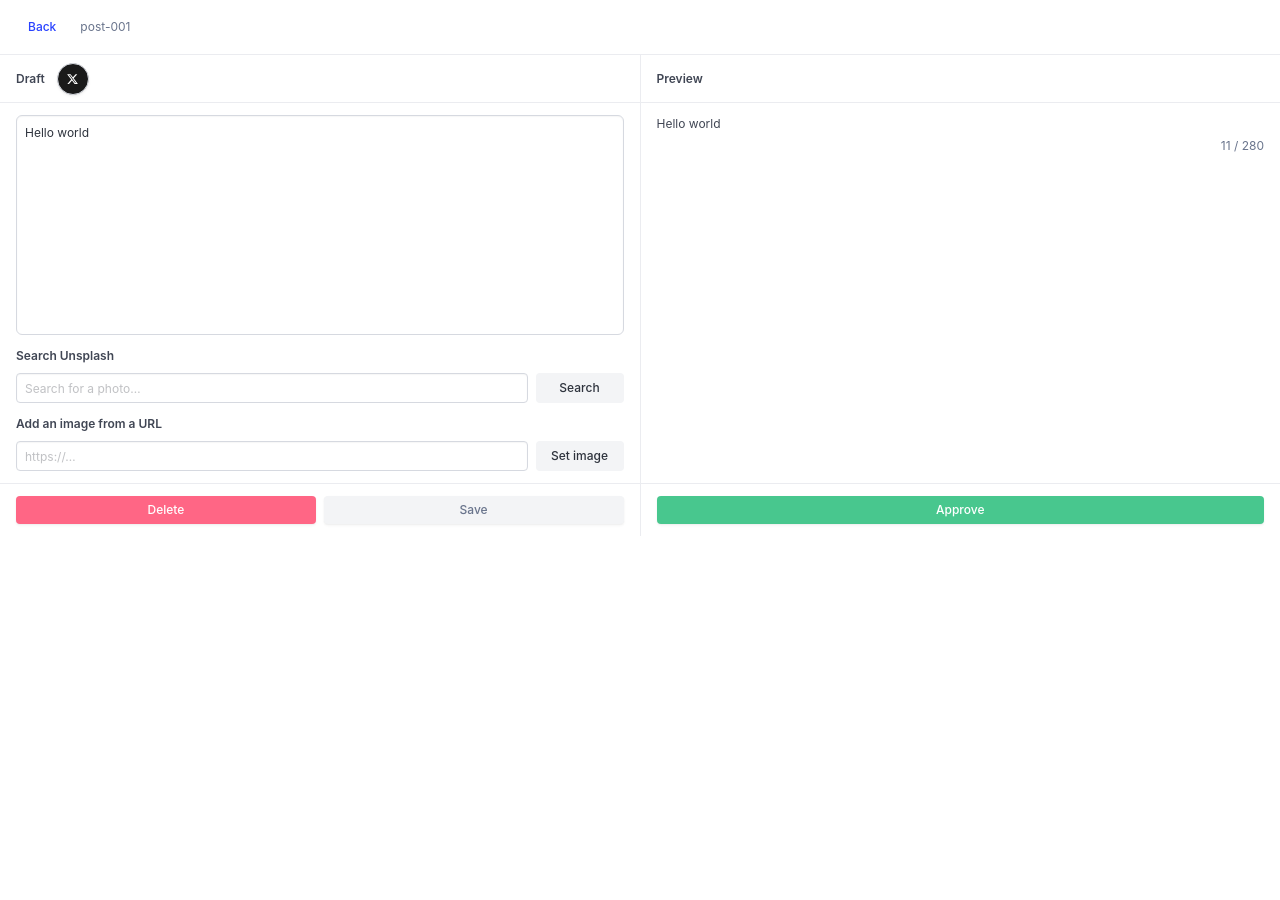
Scenario: EditPostView — Back discard guard › Back shows discard prompt when dirty
Step 1. Replace the text in the text box named "post content" with "changed" → {"x": 320, "y": 225}, box [16, 115, 624, 335]
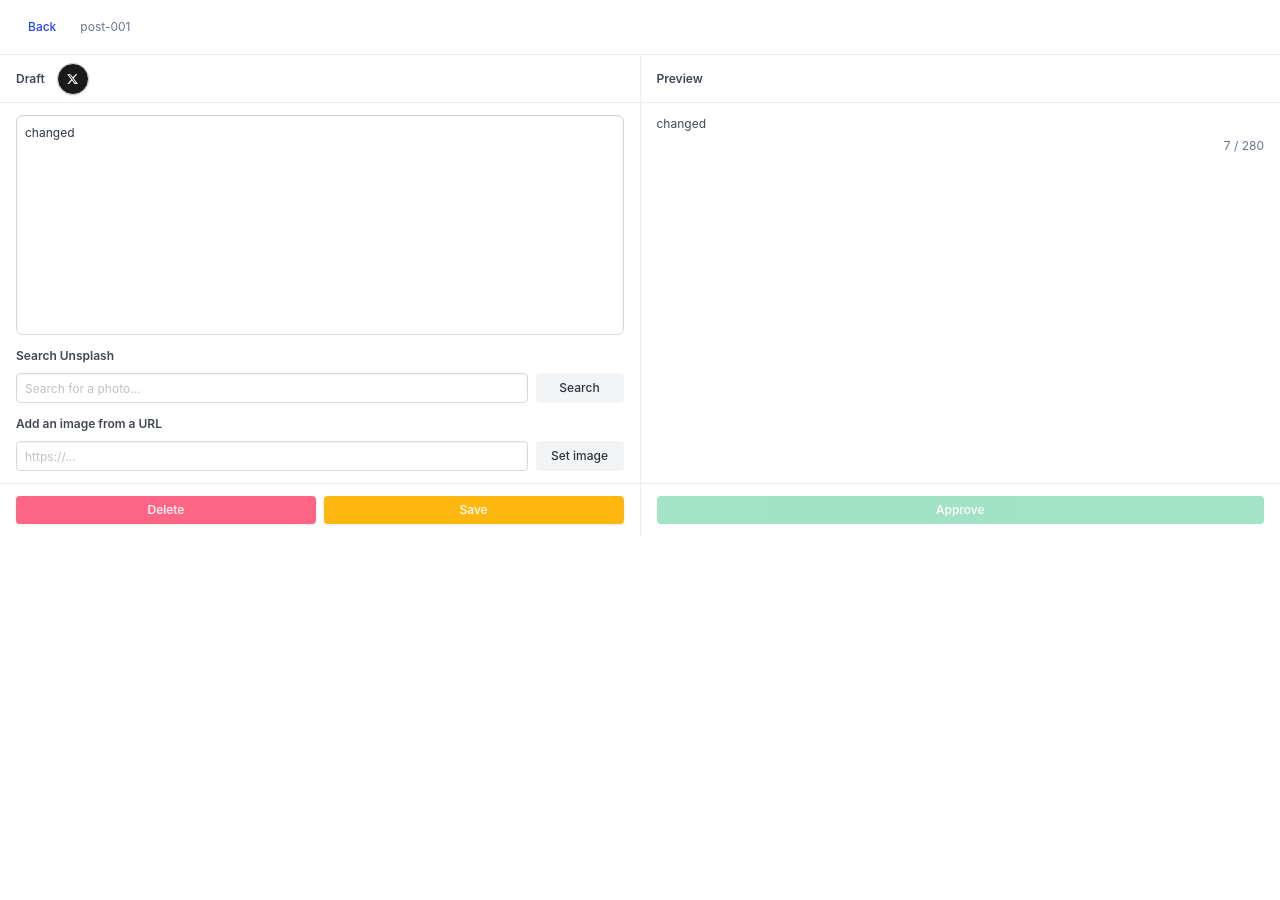
Step 2. Click the button "Back" → {"x": 42, "y": 27}, box [16, 12, 68, 42]
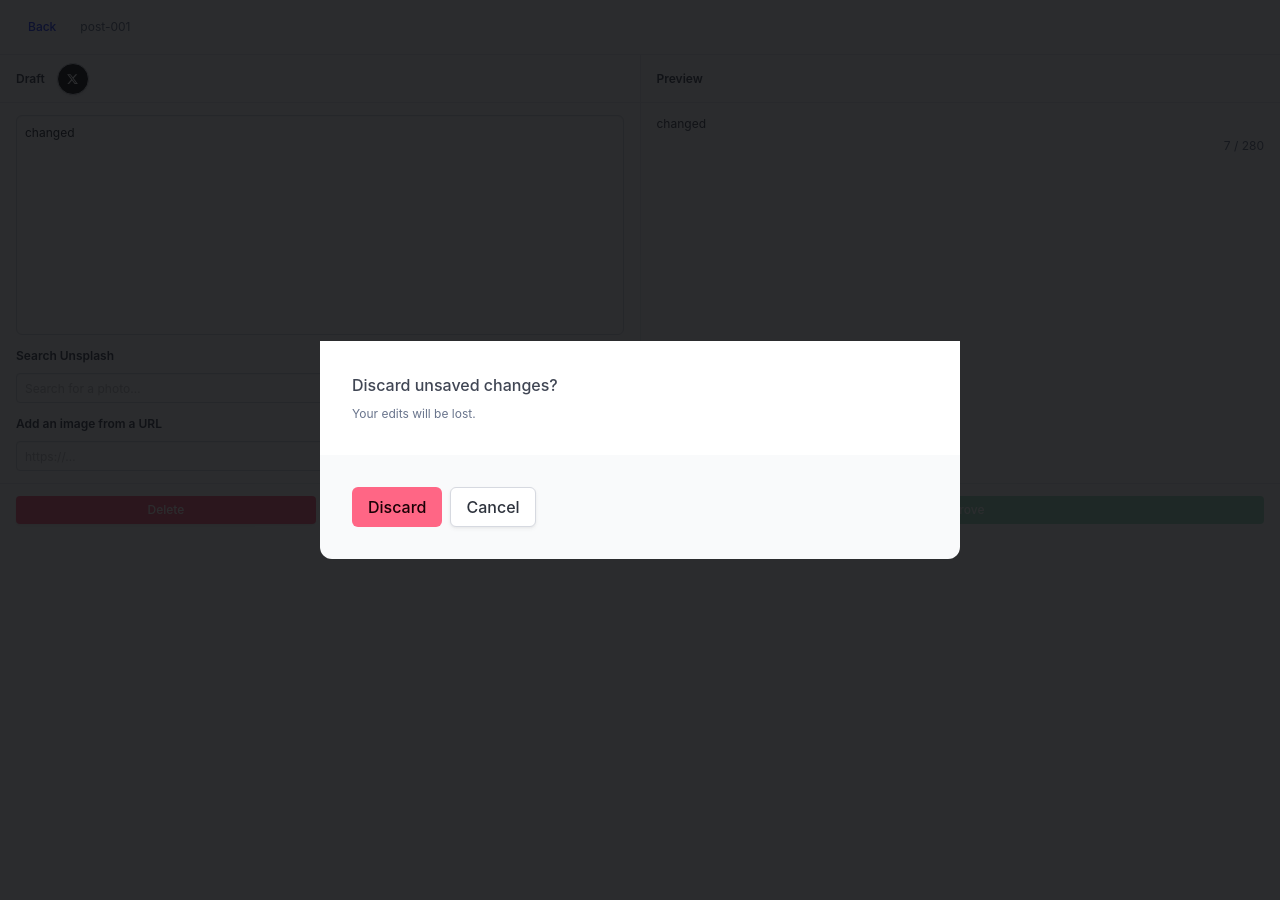
Now the text "Discard unsaved changes?" is shown, box [352, 375, 558, 395]
